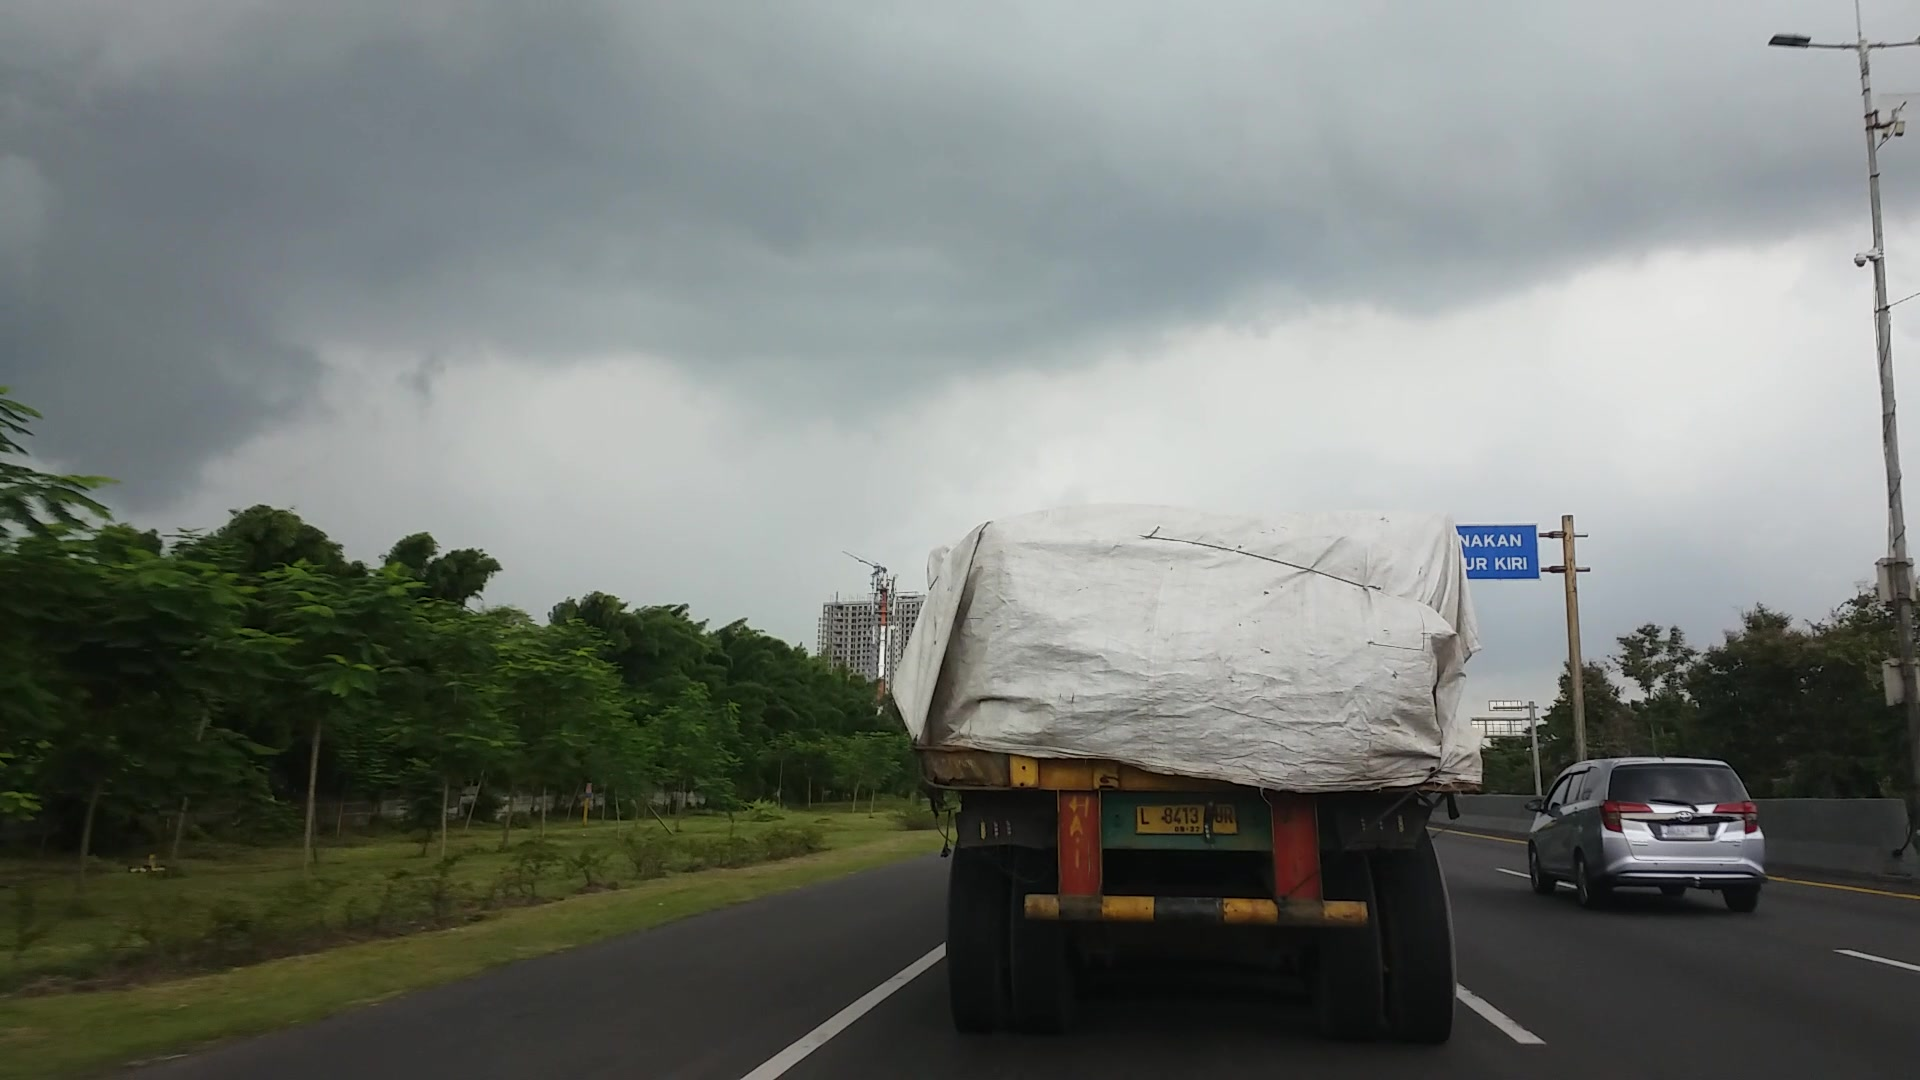plate_positive: (1135, 803, 1237, 835)
